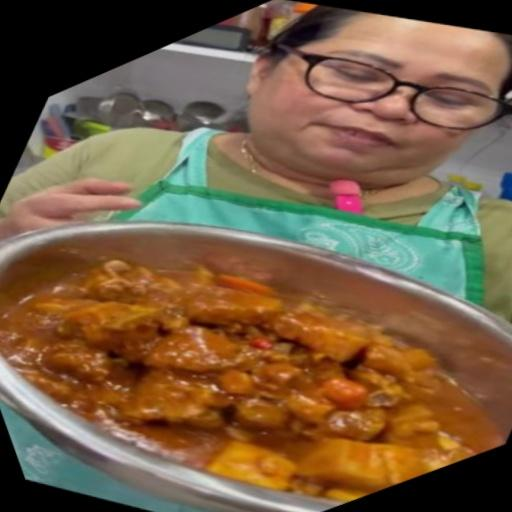pork caldereta: (0, 265, 502, 498)
